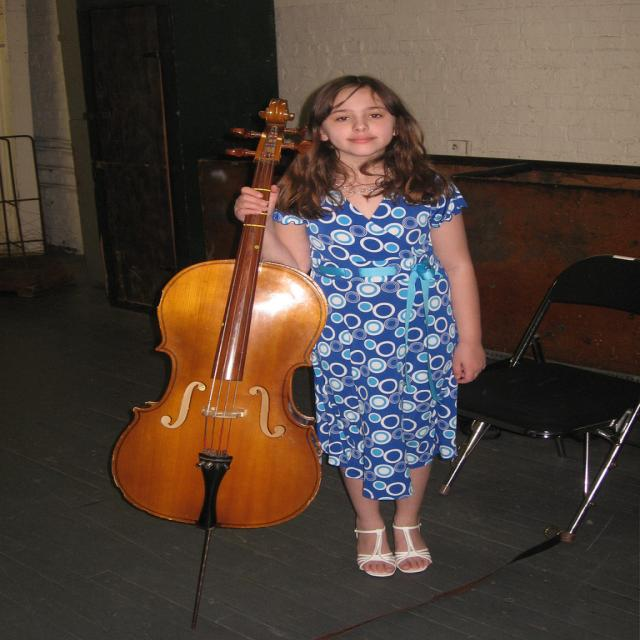cello: (108, 96, 331, 532)
